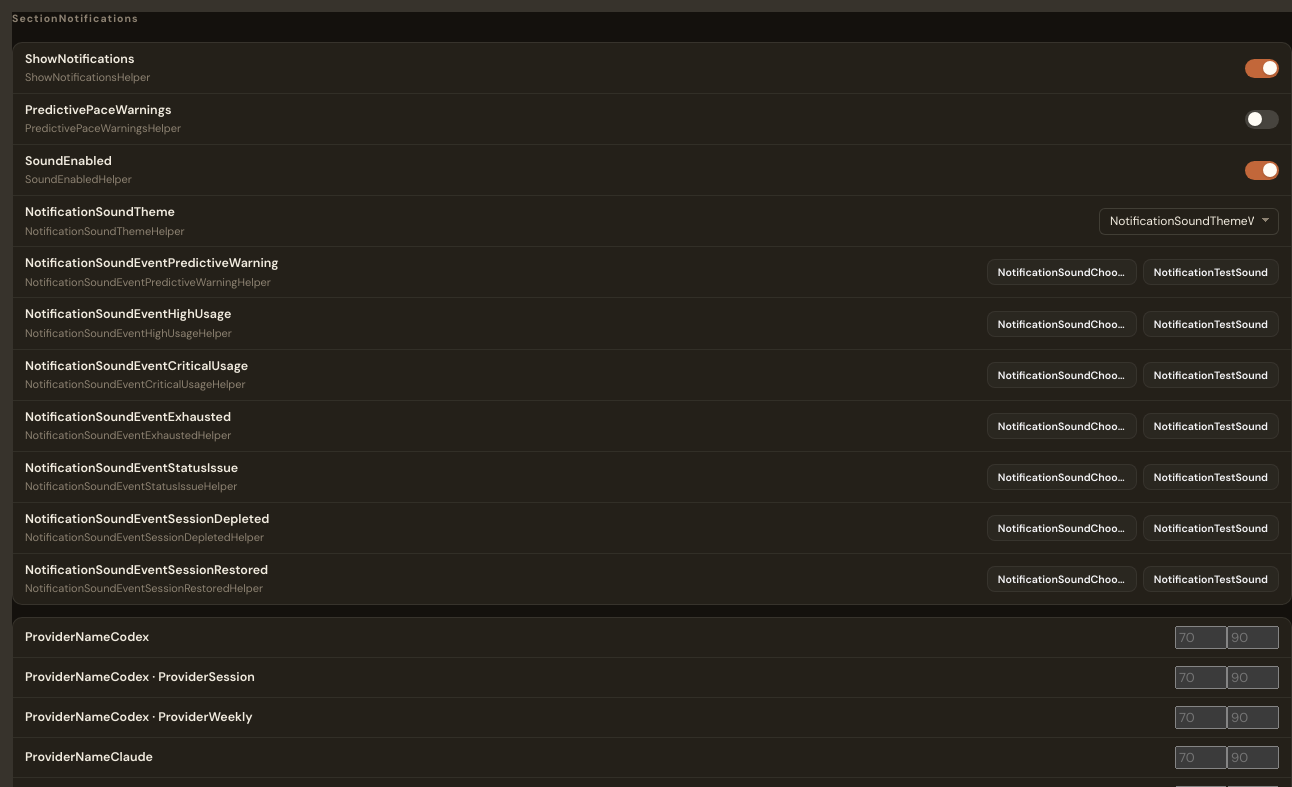
Test case: GeneralTab language picker › reenables sound previews immediately when playback fails
The width and height of the screenshot is (1292, 787).
Click the button with aria-label "NotificationSoundEventCriticalUsage: NotificationTestSound" at [1211, 375], box [1143, 362, 1279, 388]
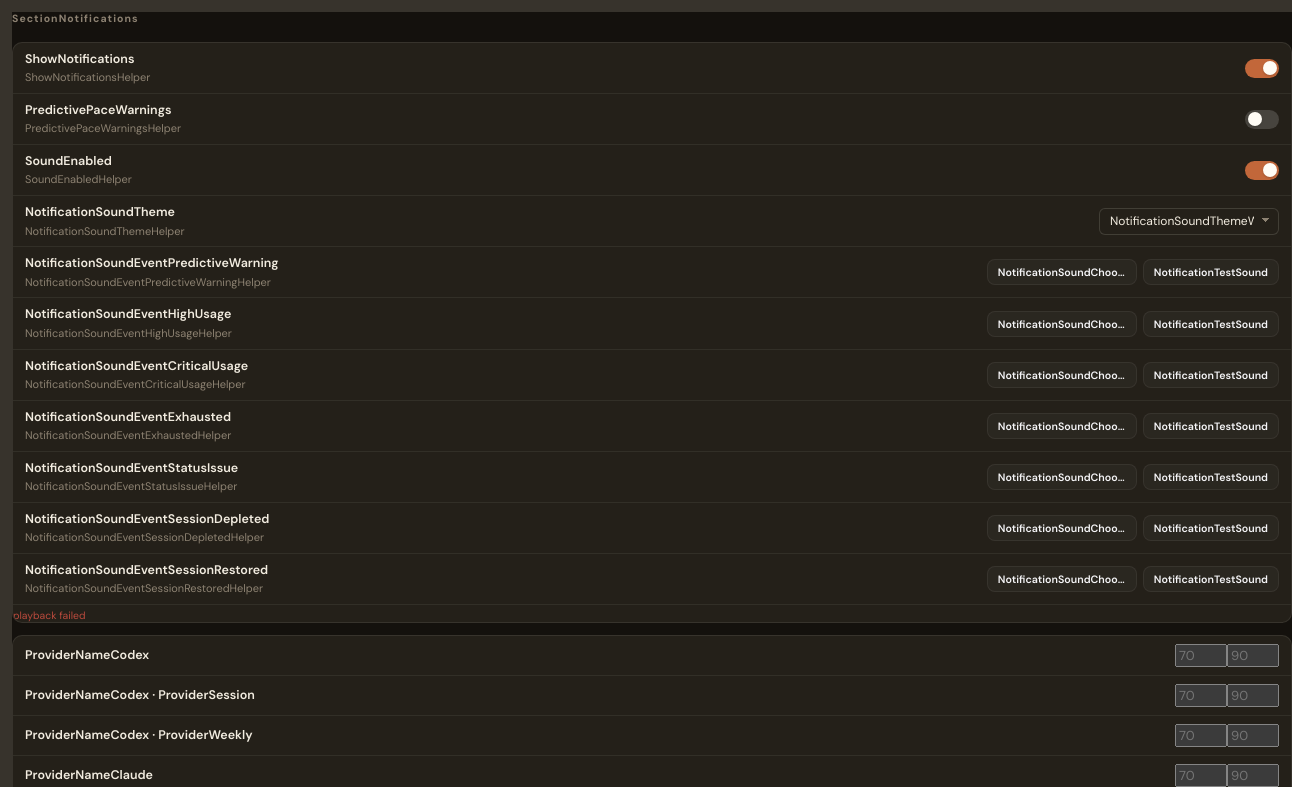
Expected: the message reads "playback failed", [13, 609, 85, 622]
